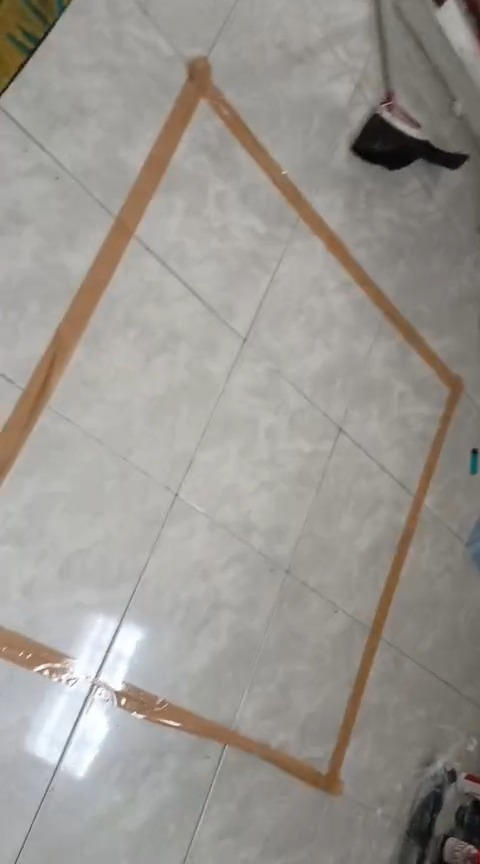floor marking: (0, 57, 461, 794), (0, 628, 79, 682)
